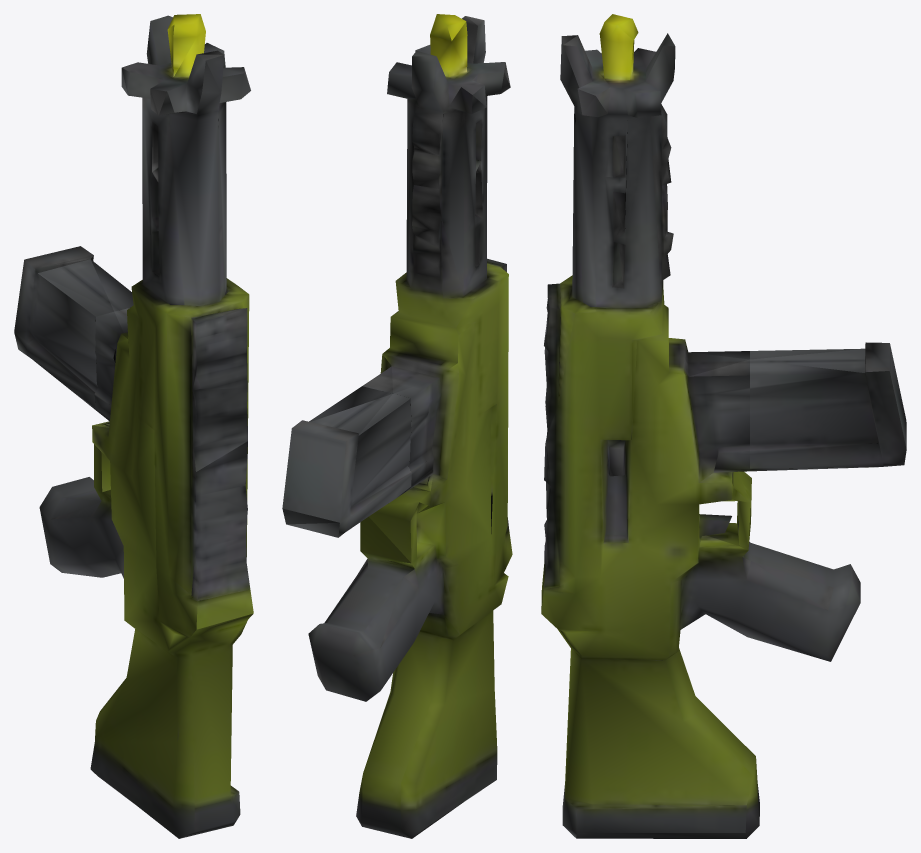
Rendered from trident.glb.
3 views of the same model, side by side, from view 1: azimuth 30°, elevation 25°; view 2: azimuth 150°, elevation 25°; view 3: azimuth 270°, elevation 25° (orthographic). The views are drawn at different scales.
Parts seen in each view (by area): view 1: trident, part_mag; view 2: trident, part_mag; view 3: trident, part_mag.
Part boxes in pixels (x1=…): trident: x1=39, y1=14, x2=253, y2=838; part_mag: x1=14, y1=246, x2=133, y2=407; trident: x1=308, y1=14, x2=512, y2=838; part_mag: x1=282, y1=386, x2=411, y2=537; trident: x1=541, y1=14, x2=878, y2=838; part_mag: x1=750, y1=342, x2=906, y2=468.
Size of the model in its own units: 0.1162 by 0.906 by 0.3719.
1 material, 1 textured.
